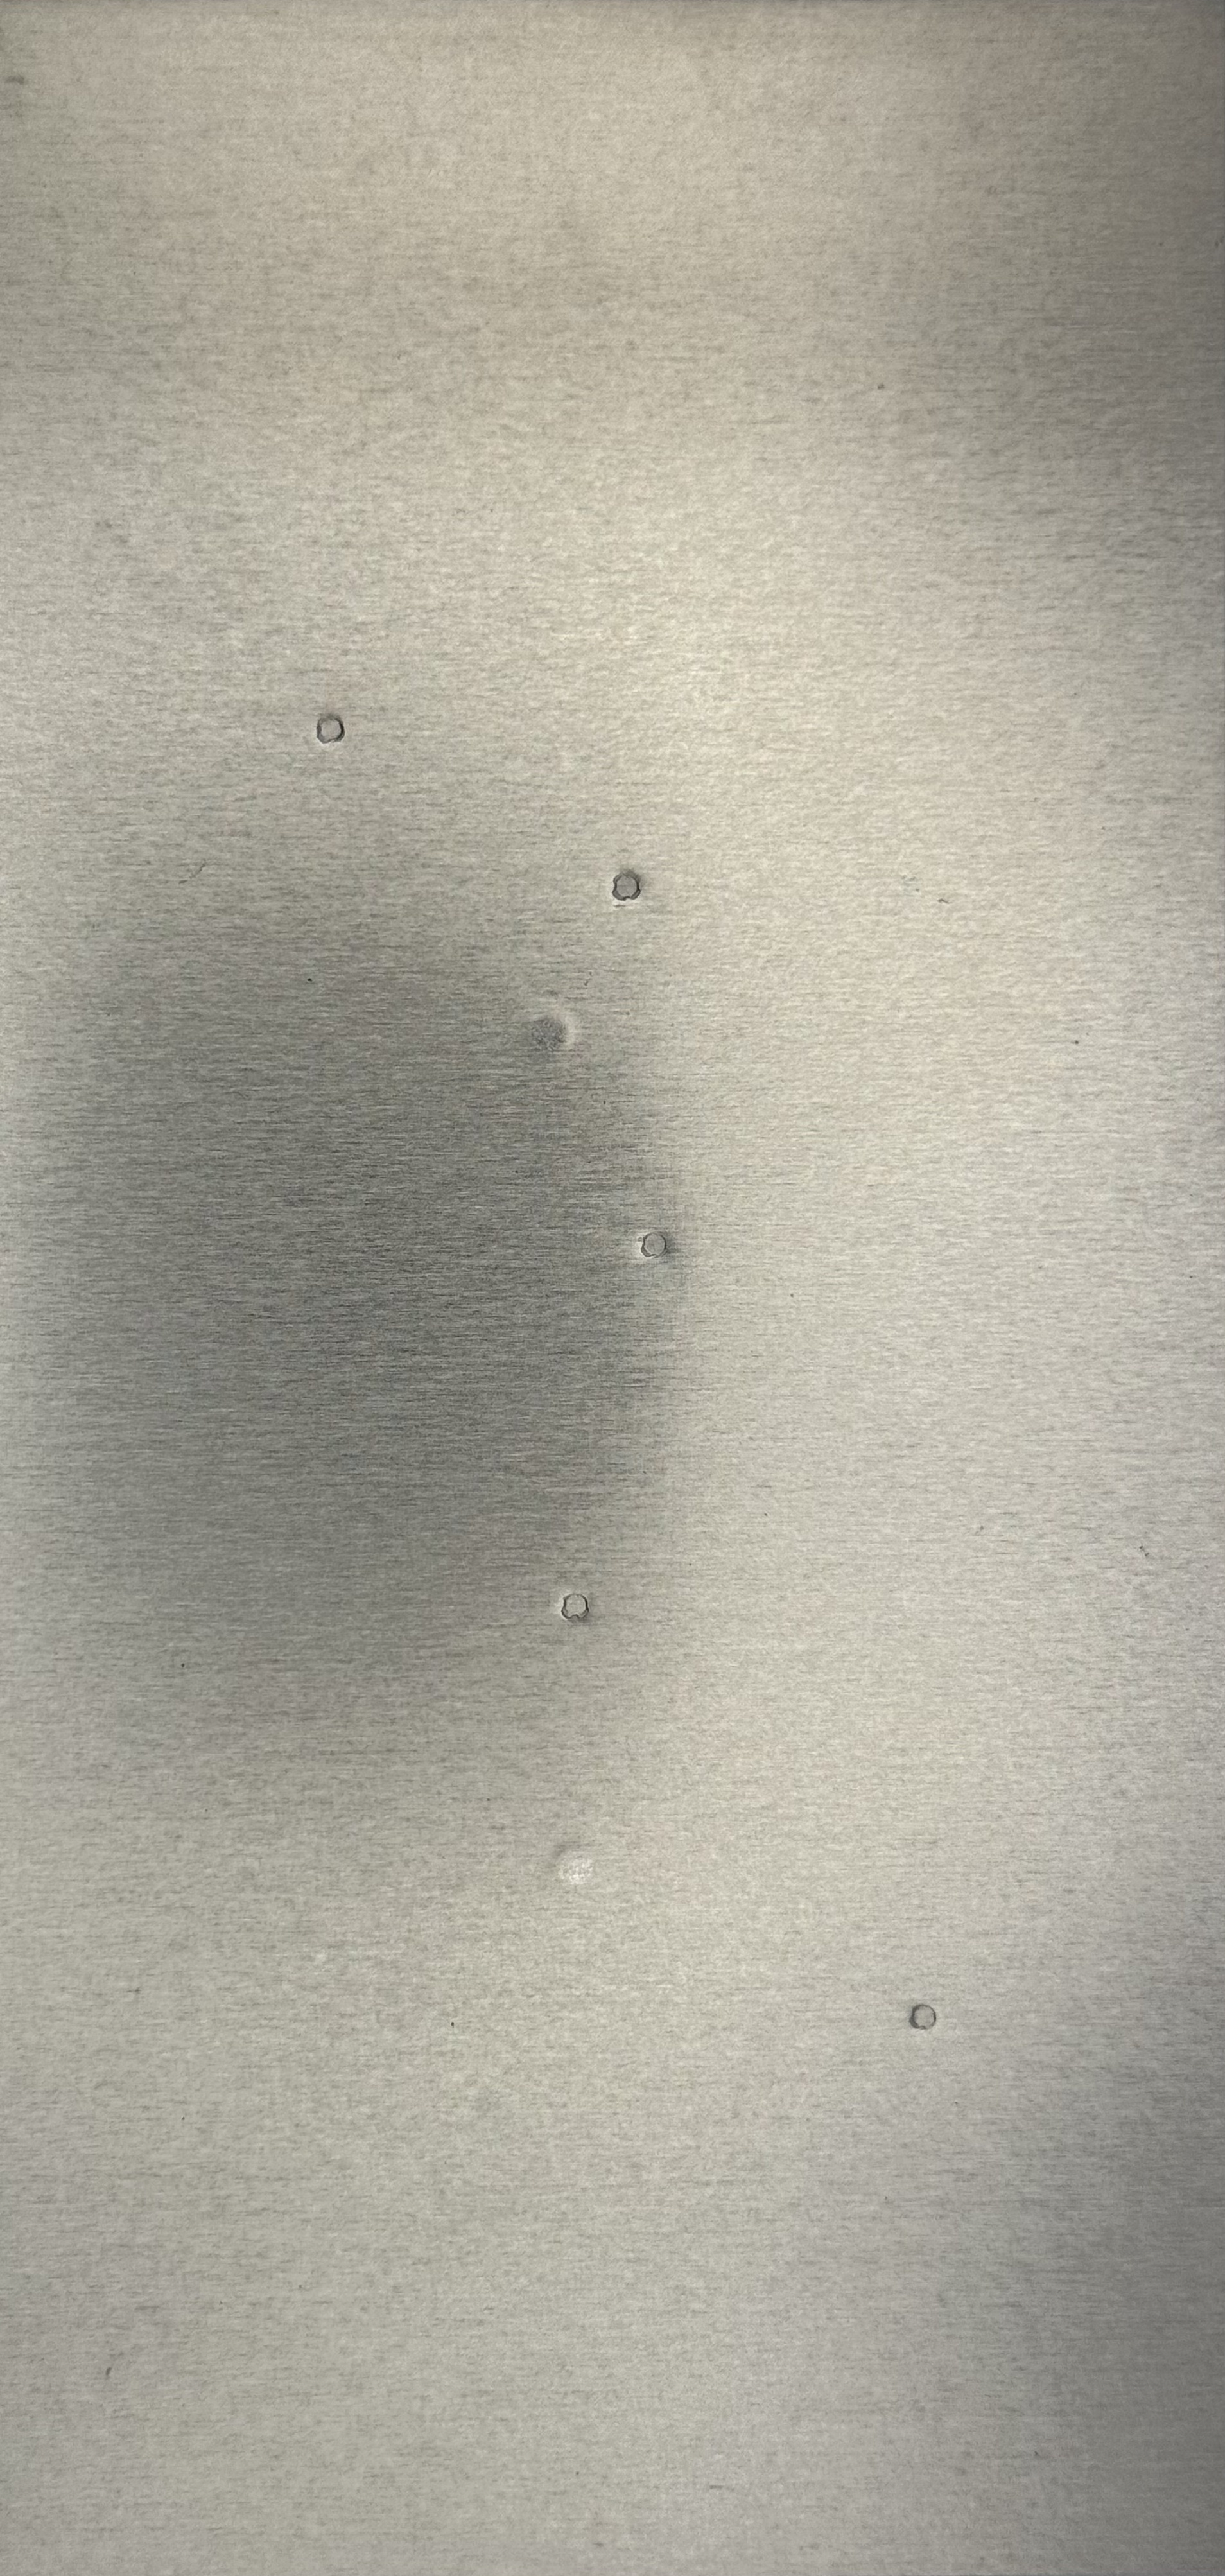Delle: (486, 979, 621, 1096), (535, 1827, 626, 1916), (289, 698, 368, 770), (895, 1978, 956, 2058), (619, 1212, 688, 1273), (542, 1579, 616, 1633), (598, 856, 662, 918)
